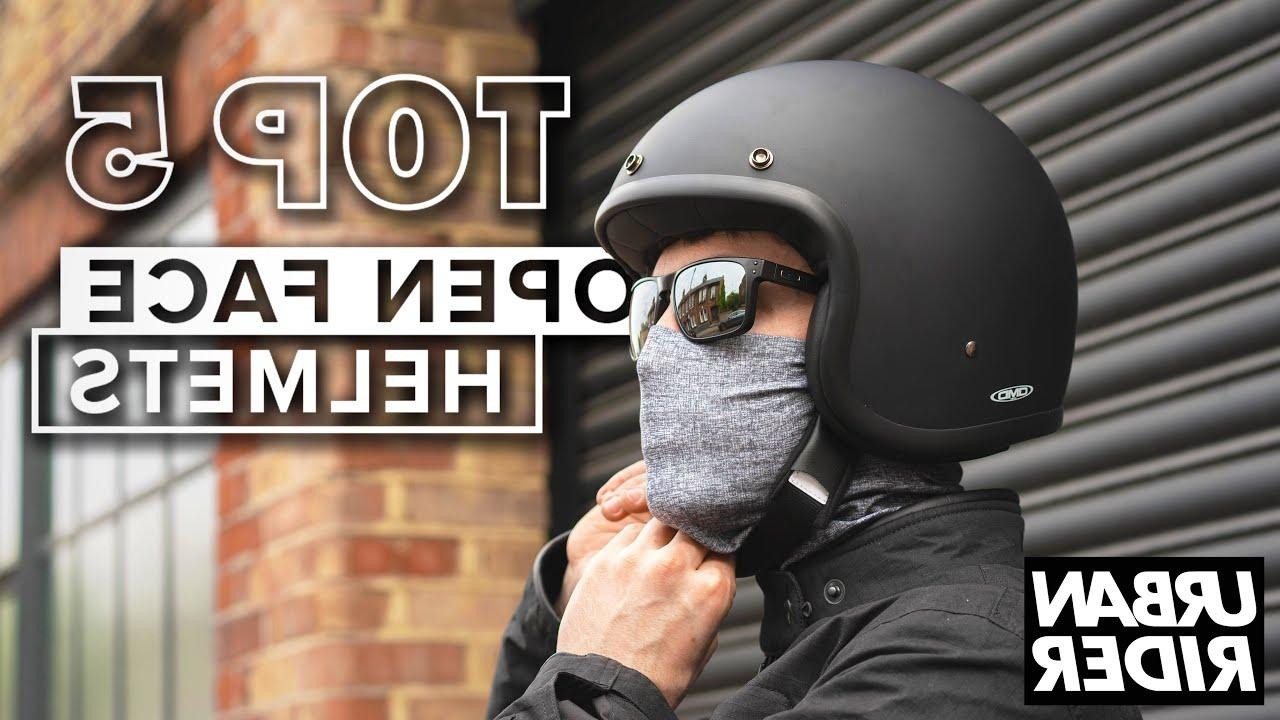Helmet: (601, 61, 1077, 581)
